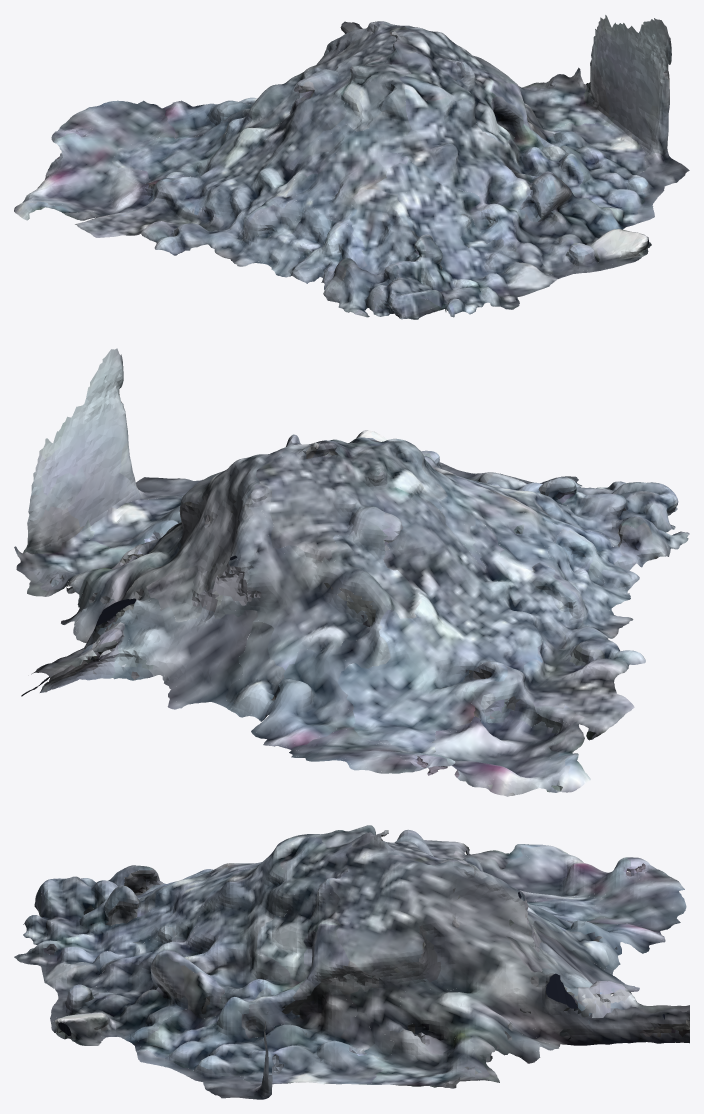
File: prop_debris.glb
3 views of the same model, one above another, from view 1: azimuth 30°, elevation 25°; view 2: azimuth 150°, elevation 25°; view 3: azimuth 270°, elevation 25° (orthographic). The views are drawn at different scales.
Visible parts, largest first — view 1: cement debris_0; view 2: cement debris_0; view 3: cement debris_0.
Boxes of the visible parts, x1,y1,x2,y2 form: cement debris_0: [14, 15, 689, 319]; cement debris_0: [14, 348, 689, 796]; cement debris_0: [14, 825, 689, 1099].
Bounding box in the file's own units: 2.41 × 0.7379 × 2.47.
1 material, 1 textured.
